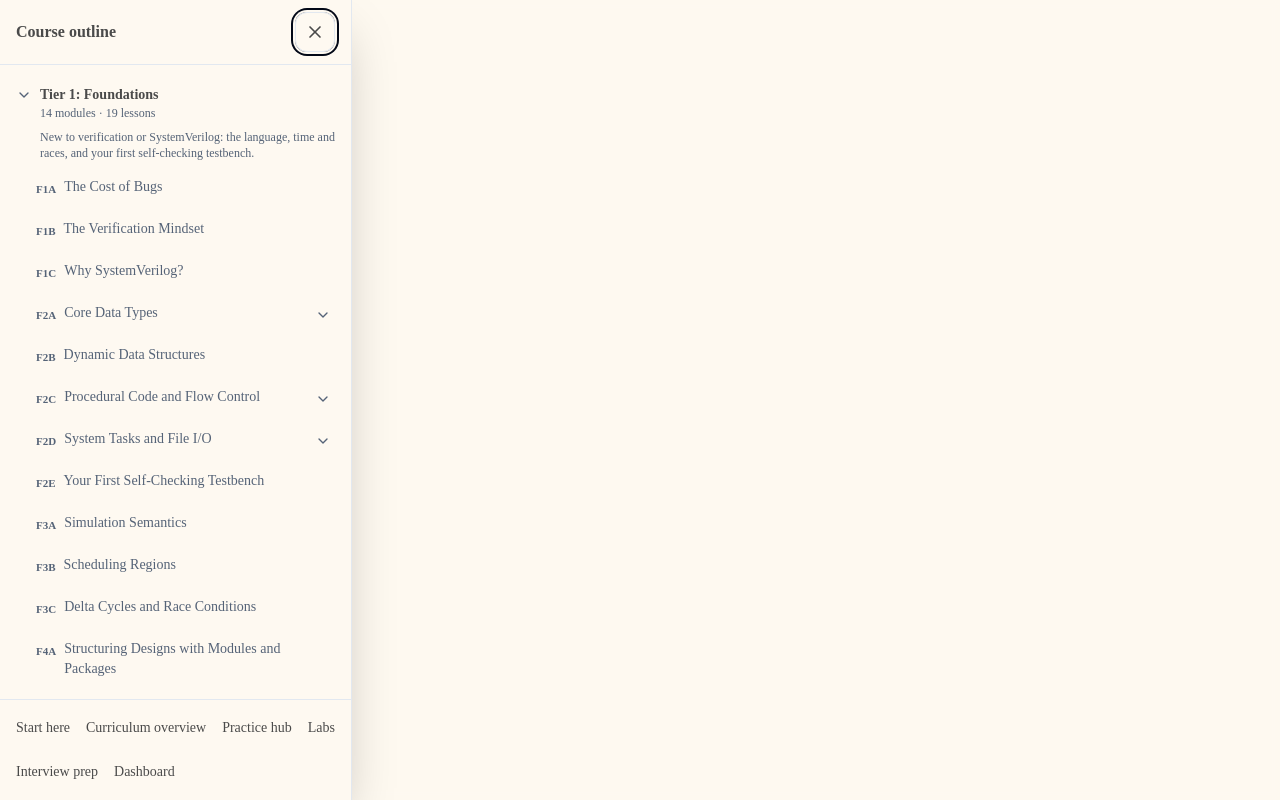
Test: course outline drawer (below lg, and off lesson pages) › closes when a quick link is followed
What coordinates should you click on to do the following:
click the link "Labs"
I would click on:
 (321, 728)
Its box is [308,720,335,735].
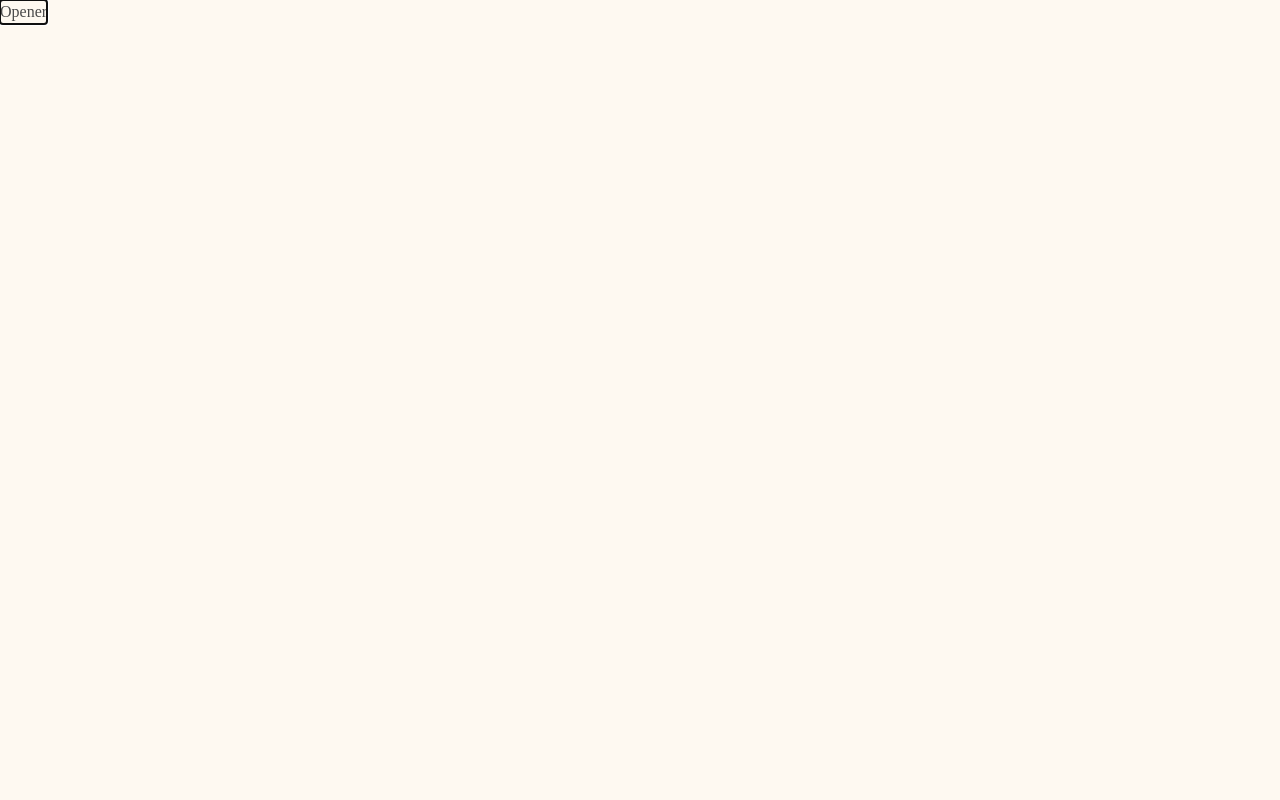
Expected: the dialog is gone
